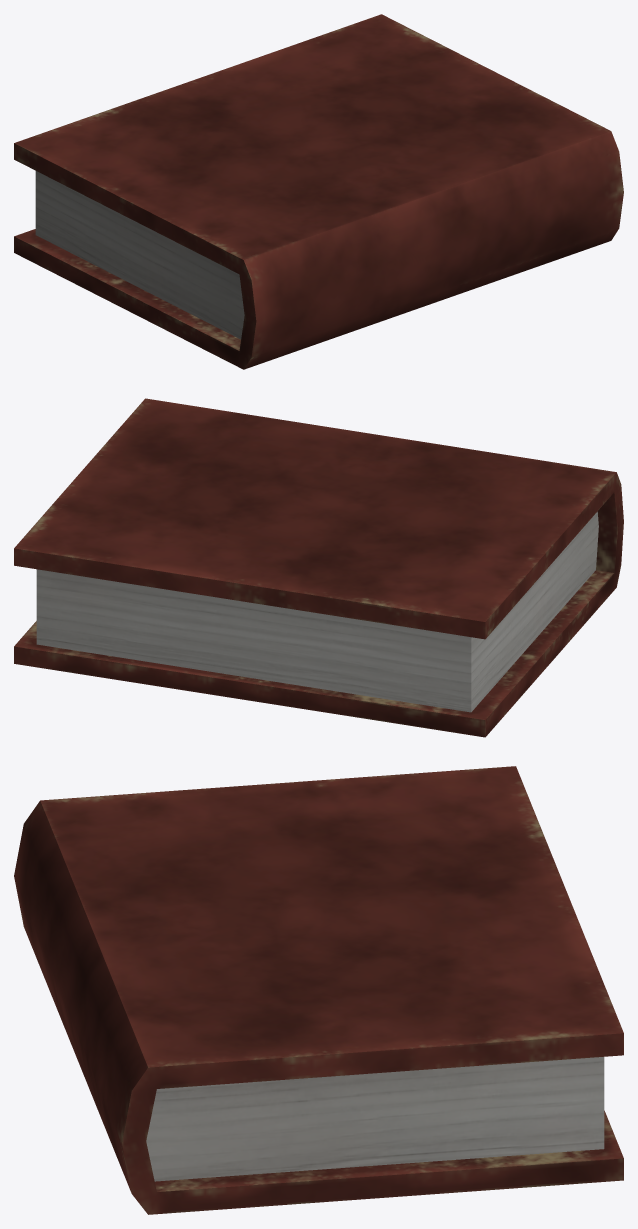
Rendered from Book1.fbx.
3 renders of one model, top to bottom at view 1: azimuth 30°, elevation 25°; view 2: azimuth 150°, elevation 25°; view 3: azimuth 270°, elevation 25°, orthographic. The views are drawn at different scales.
Visible parts, largest first — view 1: polySurface43, polySurface44; view 2: polySurface43, polySurface44; view 3: polySurface43, polySurface44.
Boxes of the visible parts, x1,y1,x2,y2 form: polySurface43: (14,14,623,369); polySurface44: (35,171,244,339); polySurface43: (14,398,623,737); polySurface44: (36,511,598,712); polySurface43: (14,766,623,1214); polySurface44: (146,1057,604,1181).
Size of the model in its own units: 33.06 by 7.48 by 28.09.
Materials: 1 (1 with a texture image).
